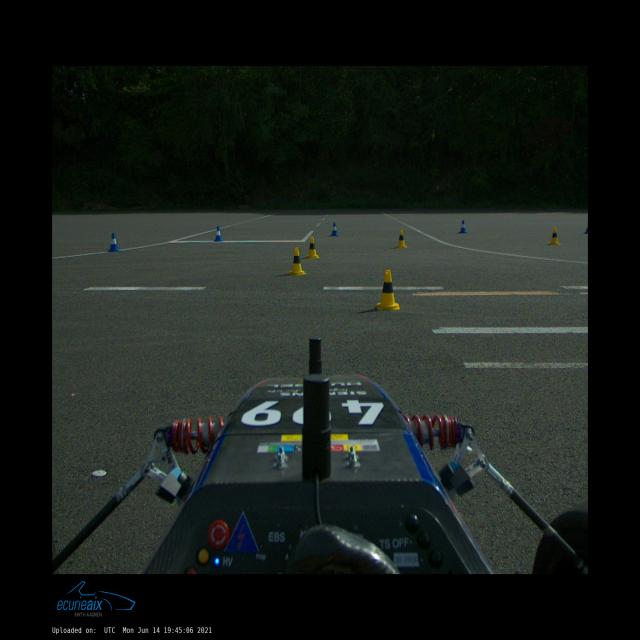blue_cone: (107, 233, 121, 252), (214, 226, 223, 242), (330, 223, 339, 236), (459, 220, 467, 233)
yellow_cone: (376, 270, 399, 310), (287, 247, 307, 275), (304, 237, 320, 258), (548, 227, 561, 245), (395, 230, 408, 248)
